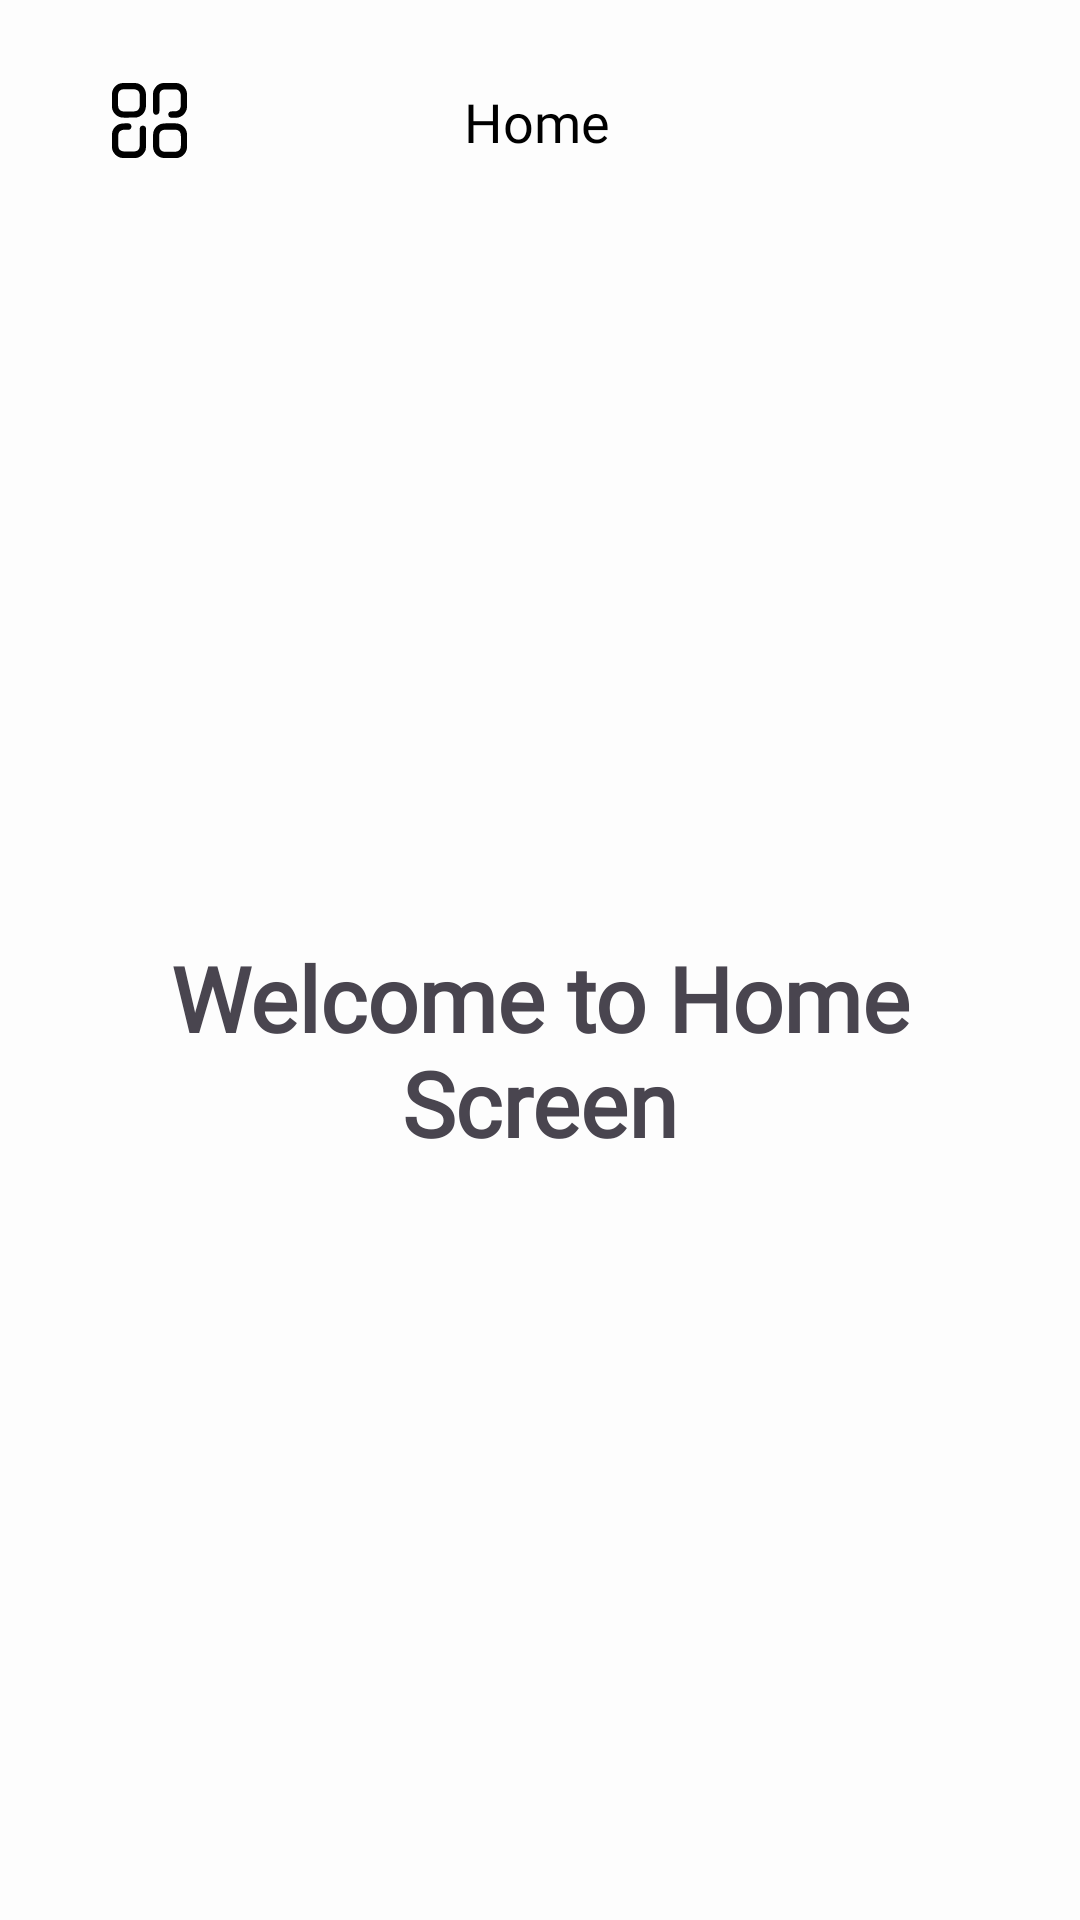

Locate icon controls on the screen. Image size 1080 x 1920, boxes as rect(x1, y1, x2, y2).
menu: rect(112, 83, 187, 158)
